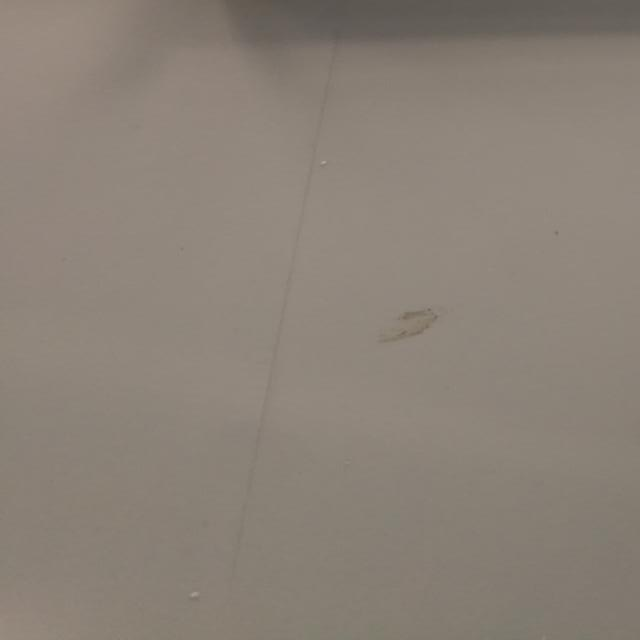fluorescent tube: (185, 0, 640, 14)
